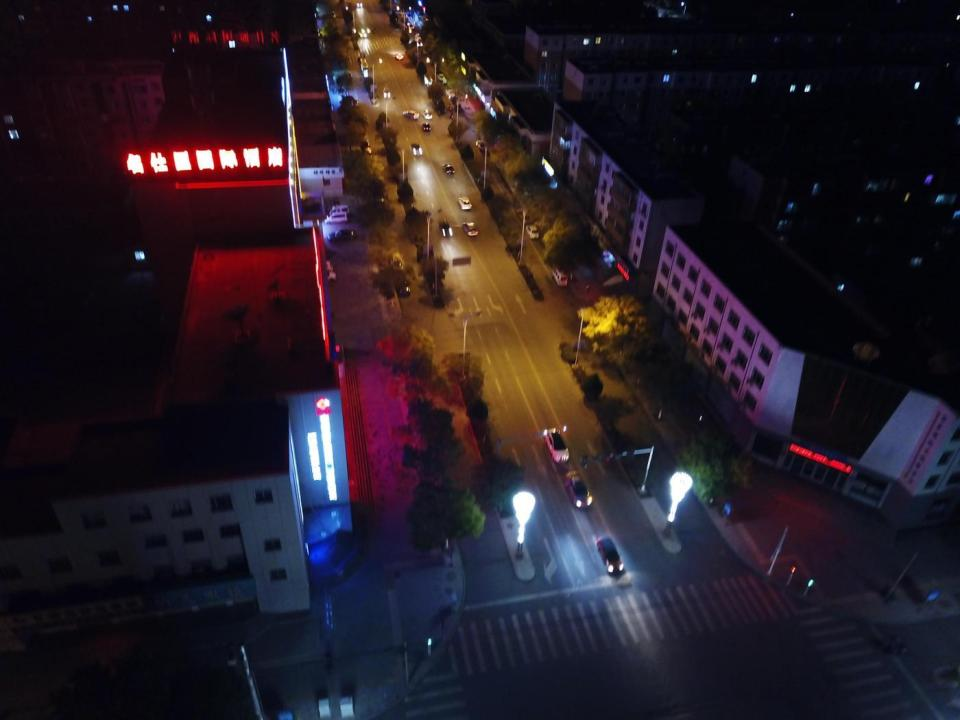car: (566, 469, 592, 508), (598, 536, 624, 574), (544, 427, 569, 462), (327, 229, 356, 241), (388, 249, 403, 269), (396, 276, 410, 296), (311, 260, 333, 271), (314, 270, 336, 281), (439, 218, 452, 236), (462, 222, 479, 235), (517, 208, 531, 222), (459, 197, 472, 210), (411, 141, 422, 154), (476, 139, 487, 152), (403, 110, 419, 118), (350, 97, 359, 110), (444, 164, 454, 175), (423, 109, 433, 119), (446, 88, 454, 99), (344, 71, 352, 82), (422, 122, 430, 131), (359, 30, 366, 38), (437, 72, 444, 80), (396, 53, 403, 59), (416, 40, 422, 47), (452, 97, 458, 104), (357, 0, 362, 8), (329, 11, 335, 17), (415, 33, 420, 40), (455, 103, 460, 110), (405, 20, 410, 25), (410, 24, 414, 29)
van: (553, 266, 568, 285), (328, 203, 349, 216), (324, 214, 348, 224), (526, 224, 539, 239), (383, 86, 390, 98)
